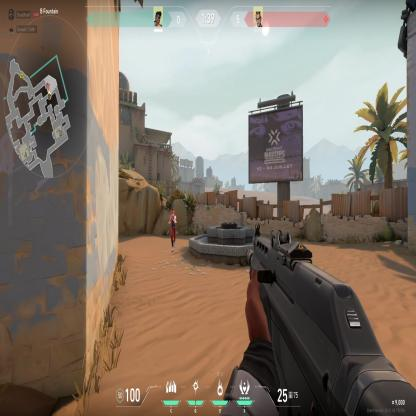enemy: (168, 208, 177, 252)
